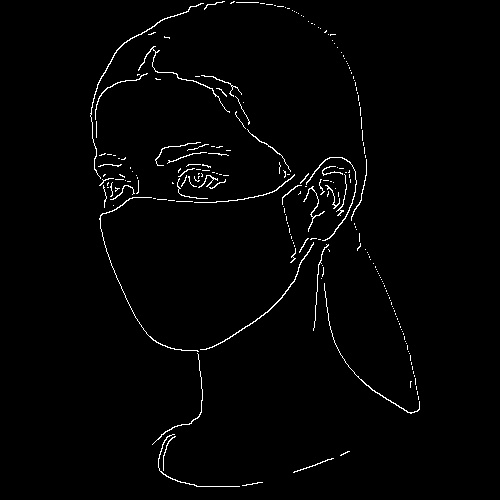mask: (92, 202, 328, 359)
